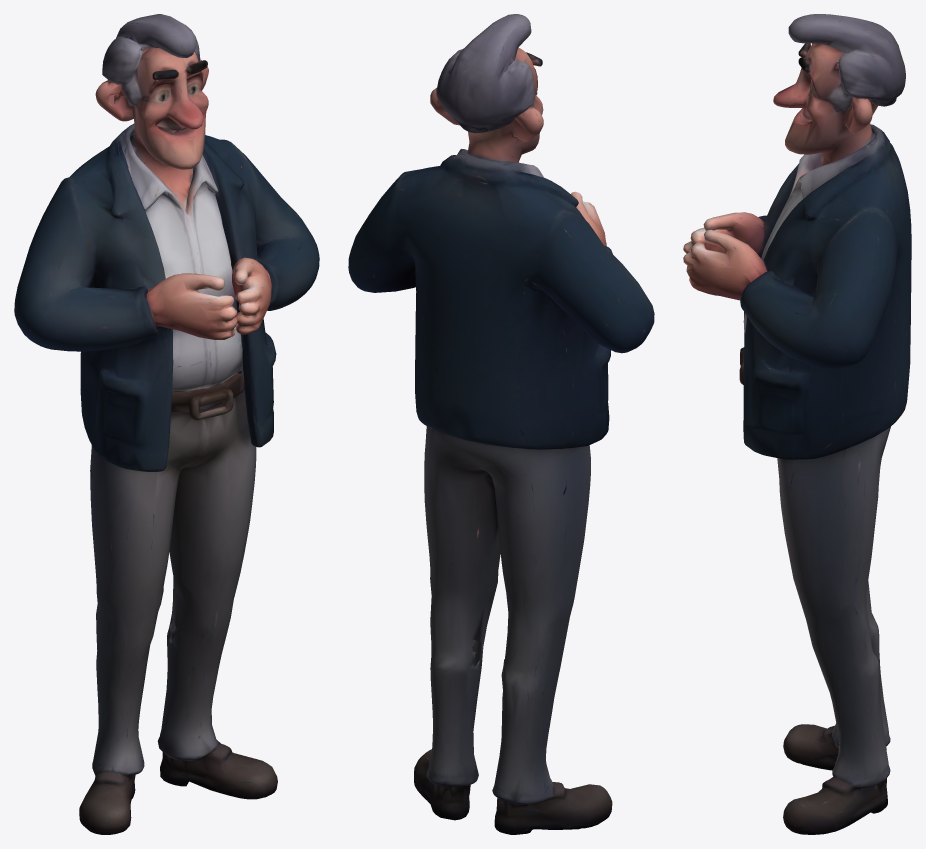
Rendered from paulo_dor_lombar.glb.
3 renders of one model, left to right at view 1: azimuth 30°, elevation 25°; view 2: azimuth 150°, elevation 25°; view 3: azimuth 270°, elevation 25°, orthographic.
Visible parts, largest first — view 1: Mesh_0; view 2: Mesh_0; view 3: Mesh_0.
Part boxes in pixels (x1=…): Mesh_0: x1=14, y1=14, x2=319, y2=834; Mesh_0: x1=348, y1=14, x2=654, y2=834; Mesh_0: x1=683, y1=14, x2=911, y2=834.
Bounding box in the file's own units: 0.6716 × 1.72 × 0.459.
Materials: 1 (1 with a texture image).
